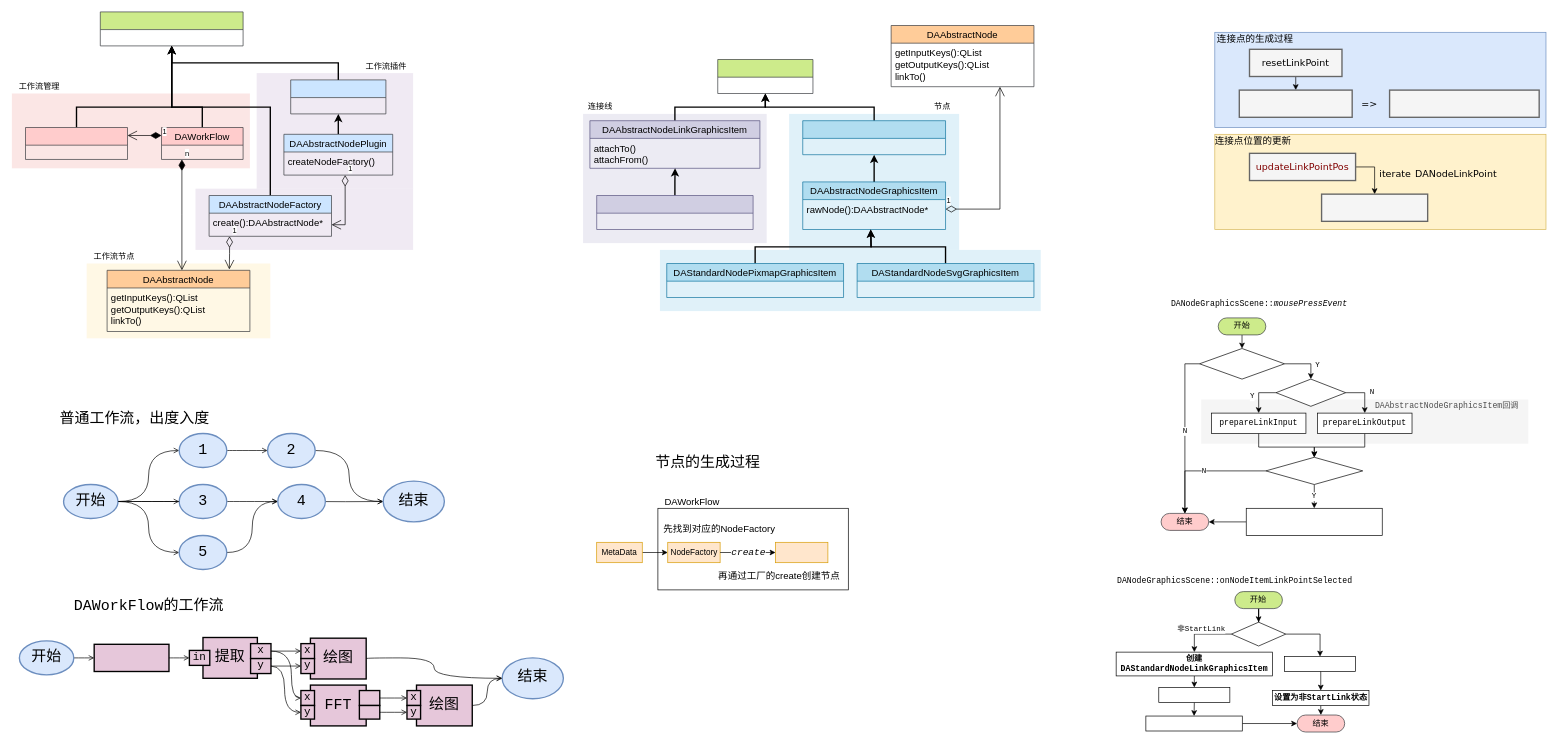
Image size: 1558x744. Some labels were removed from this diagram. Here are the shapes that lost their labels. From the top down, the centre of each, then its label:
the point at 171,28: QObject
the point at 338,96: DAAbstractPlugin
the point at 765,76: QGraphicsItem
the point at 1295,103: generateLinkPoint
the point at 1464,103: QList < DANodeLinkPoint >
the point at 76,143: DAWorkFlowExecuter
the point at 874,137: DAGraphicsResizeableItem
the point at 674,212: DAStandardNodeLinkGraphicsItem
the point at 1374,207: changeLinkPointPos
the point at 1242,363: 点击了 节点
the point at 1310,392: StartLink状态
the point at 1314,471: 点击了元件的连接点
the point at 1314,522: 发射 nodeItemLinkPointSelected
the point at 801,552: Node
the point at 1258,634: 连接状态
the point at 131,657: 导入数据
the point at 1320,664: attachTo
the point at 369,698: fre
the point at 369,711: mag
the point at 1194,694: attachFrom
the point at 1193,723: 设置为StartLink状态
